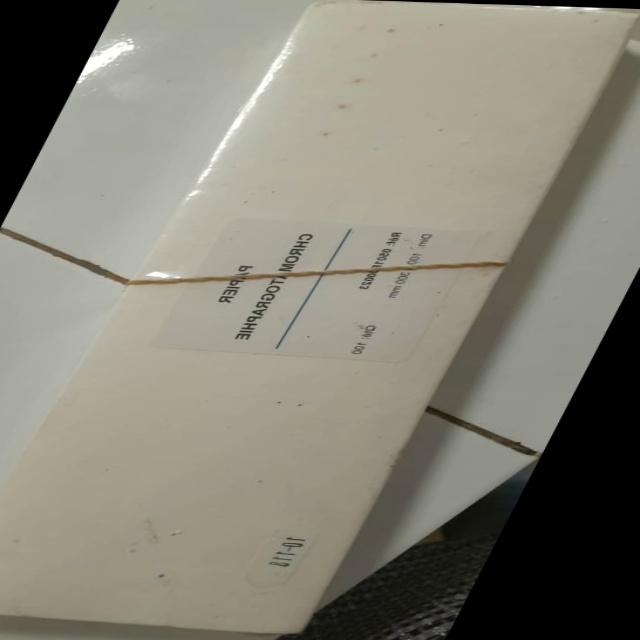Paper Chromatography: (0, 2, 630, 632)
